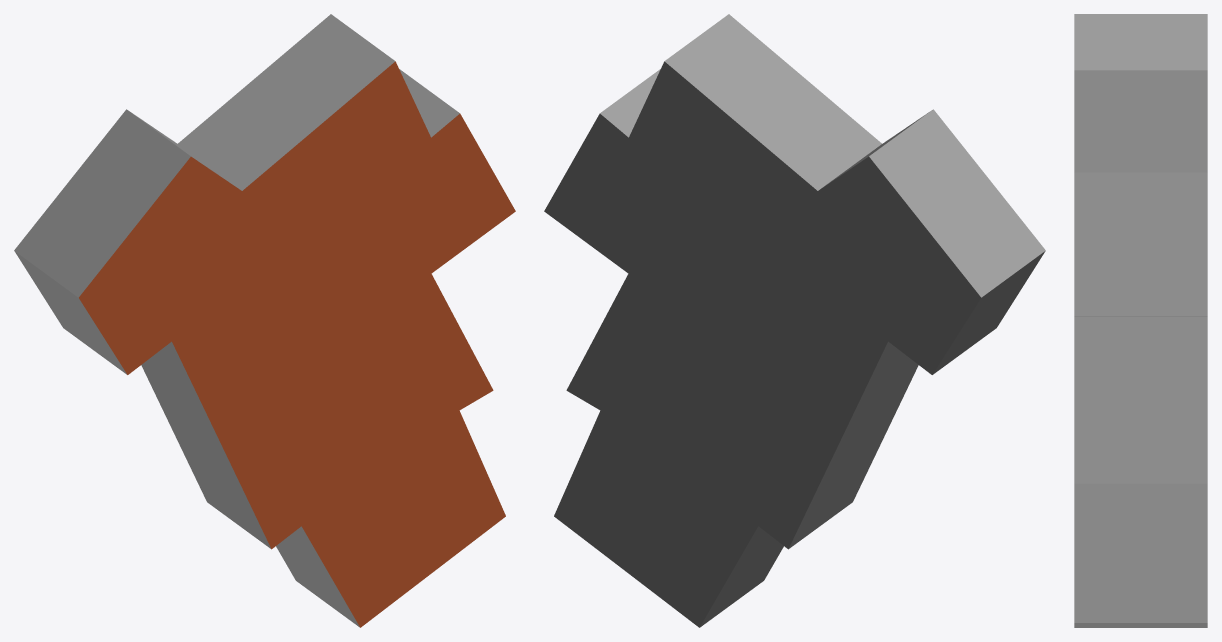
The model's file is construction_1176_assumed_A_Casa_h6m.obj.
3 renders of one model, left to right at view 1: azimuth 30°, elevation 25°; view 2: azimuth 150°, elevation 25°; view 3: azimuth 270°, elevation 25°, orthographic. The views are drawn at different scales.
Visible parts, largest first — view 1: construction_1176_assumed_A_Casa; view 2: construction_1176_assumed_A_Casa; view 3: construction_1176_assumed_A_Casa.
Boxes of the visible parts, x1=… form: construction_1176_assumed_A_Casa: x1=14, y1=14, x2=515, y2=627; construction_1176_assumed_A_Casa: x1=544, y1=14, x2=1045, y2=627; construction_1176_assumed_A_Casa: x1=1074, y1=14, x2=1207, y2=627.
Bounding box in the file's own units: 23.47 × 28.62 × 6.
